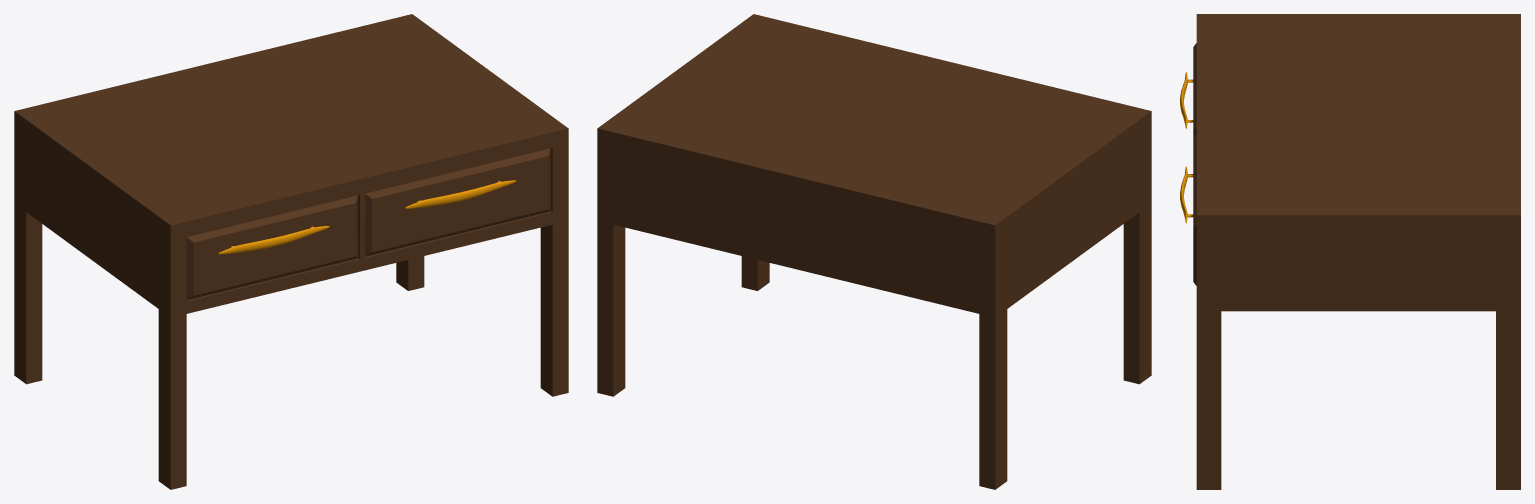
Rendered from desk.fbx.
3 views of the same model, side by side, from view 1: azimuth 30°, elevation 25°; view 2: azimuth 150°, elevation 25°; view 3: azimuth 270°, elevation 25° (orthographic). The views are drawn at different scales.
Parts seen in each view (by area): view 1: Desk; view 2: Desk; view 3: Desk.
Boxes of the visible parts, x1,y1,x2,y2 form: Desk: (14, 14, 568, 489); Desk: (597, 14, 1151, 489); Desk: (1180, 14, 1520, 489).
Bounding box in the file's own units: 5308 × 3373 × 3796.
